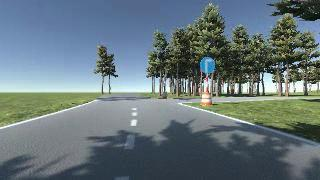turn_right: (199, 57, 215, 73)
